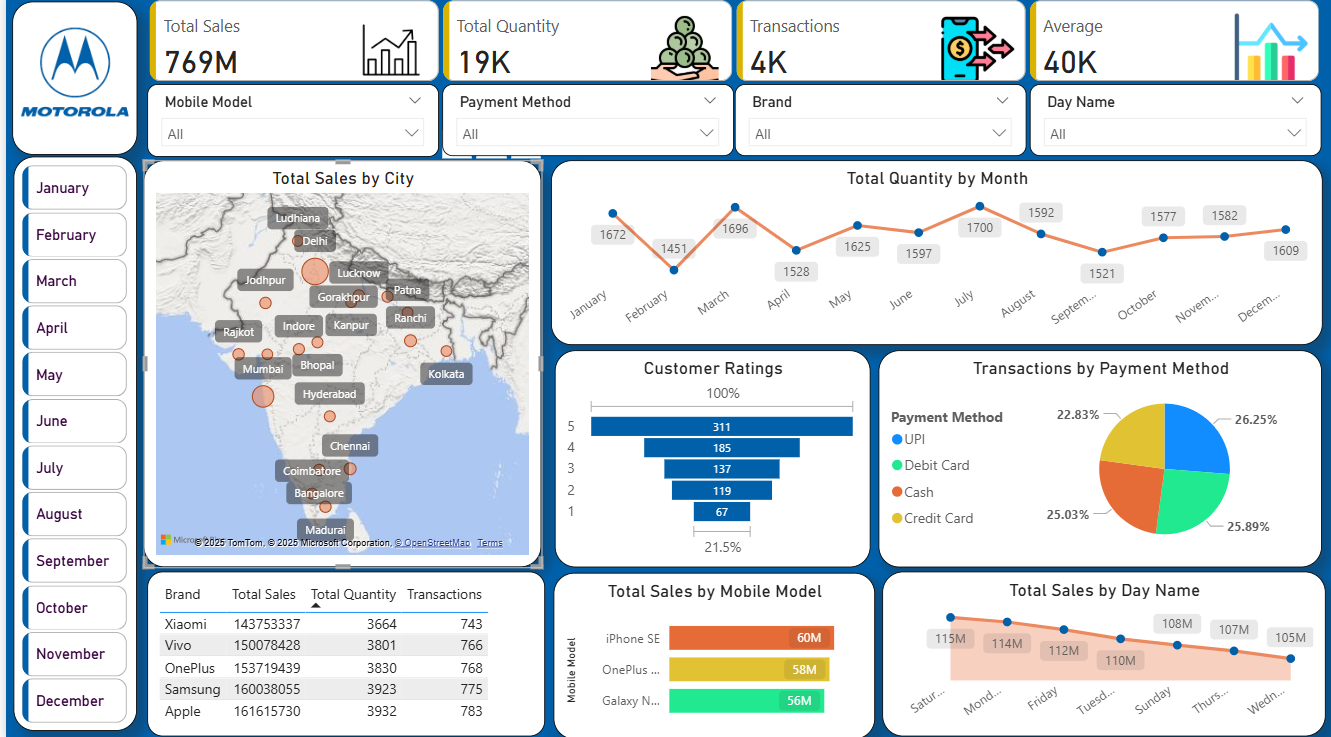

The page's visual inventory and layout, read from the dashboard file:
{"tool":"powerbi","page":{"name":"Page 1","canvas":[1280,720],"ordinal":0},"visuals":[{"type":"shape","box":[5.5,6.9,120.8,148.2],"z":0},{"type":"image","box":[9.6,16.5,113.9,116.6],"z":1000},{"type":"shape","box":[6.9,156.4,119.4,554.4],"z":2000},{"type":"advancedSlicerVisual","fields":{"Values":["Sales_Data.Date.Variation.Date Hierarchy.Month"]},"box":[11,160.5,111.1,548.9],"z":3000},{"type":"cardVisual","fields":{"Data":["Sales_Data.Total Sales","Sales_Data.Total Quantity","Sales_Data.Transactions","Sales_Data.Average"]},"box":[134,5.6,1140.1,83.7],"z":4000},{"type":"map","fields":{"Category":["Sales_Data.City"],"Size":["Sales_Data.Total Sales"]},"box":[132.9,160.8,384.1,393.1],"z":5000},{"type":"lineChart","fields":{"Y":["Sales_Data.Total Quantity"],"Category":["Sales_Data.Date.Variation.Date Hierarchy.Month","Sales_Data.Date.Variation.Date Hierarchy.Day"]},"box":[525.9,160.8,744.8,178.7],"z":6000},{"type":"clusteredBarChart","fields":{"Category":["Sales_Data.Mobile Model"],"Y":["Sales_Data.Total Sales"]},"box":[528.3,558.5,310.1,160.5],"z":7000},{"type":"pieChart","fields":{"Category":["Sales_Data.Payment Method"],"Y":["Sales_Data.Transactions"]},"box":[842.5,344.4,428.1,209.9],"z":8000},{"type":"funnel","title":"Customer Ratings","fields":{"Category":["Sales_Data.Customer Ratings"],"Y":["Sum(Sales_Data.Customer Ratings)"]},"box":[529.7,344.4,304.6,209.9],"z":9000},{"type":"areaChart","fields":{"Category":["Sales_Data.Day Name"],"Y":["Sales_Data.Total Sales"]},"box":[845.3,557.1,428.1,159.2],"z":10000},{"type":"tableEx","fields":{"Values":["Sales_Data.Brand","Sales_Data.Total Sales","Sales_Data.Total Quantity","Sales_Data.Transactions"]},"box":[135.8,557.1,384.2,159.2],"z":11000},{"type":"slicer","fields":{"Values":["Sales_Data.Mobile Model"]},"box":[136.2,87.1,281.4,70.3],"z":12000},{"type":"slicer","fields":{"Values":["Sales_Data.Payment Method"]},"box":[421,87.1,281.4,69.2],"z":13000},{"type":"slicer","fields":{"Values":["Sales_Data.Brand"]},"box":[703.5,87.1,281.4,69.2],"z":14000},{"type":"slicer","fields":{"Values":["Sales_Data.Day Name"]},"box":[988.2,87.1,281.4,69.2],"z":15000}]}

Visuals, with their boxes in screenshot pixels (x1, y1, x2, y2), scaled from the page's 1280x720 canvas onto the 1331x737 screenshot:
shape: (left=6, top=7, right=131, bottom=159)
image: (left=10, top=17, right=128, bottom=136)
shape: (left=7, top=160, right=131, bottom=728)
advancedSlicerVisual - Sales_Data.Date.Variation.Date Hierarchy.Month: (left=11, top=164, right=127, bottom=726)
cardVisual - Sales_Data.Total Sales x Sales_Data.Total Quantity: (left=139, top=6, right=1325, bottom=91)
map - Sales_Data.City x Sales_Data.Total Sales: (left=138, top=165, right=538, bottom=567)
lineChart - Sales_Data.Total Quantity x Sales_Data.Date.Variation.Date Hierarchy.Month: (left=547, top=165, right=1321, bottom=348)
clusteredBarChart - Sales_Data.Mobile Model x Sales_Data.Total Sales: (left=549, top=572, right=872, bottom=736)
pieChart - Sales_Data.Payment Method x Sales_Data.Transactions: (left=876, top=353, right=1321, bottom=567)
"Customer Ratings" funnel: (left=551, top=353, right=868, bottom=567)
areaChart - Sales_Data.Day Name x Sales_Data.Total Sales: (left=879, top=570, right=1324, bottom=733)
tableEx - Sales_Data.Brand x Sales_Data.Total Sales: (left=141, top=570, right=541, bottom=733)
slicer - Sales_Data.Mobile Model: (left=142, top=89, right=434, bottom=161)
slicer - Sales_Data.Payment Method: (left=438, top=89, right=730, bottom=160)
slicer - Sales_Data.Brand: (left=732, top=89, right=1024, bottom=160)
slicer - Sales_Data.Day Name: (left=1028, top=89, right=1320, bottom=160)
